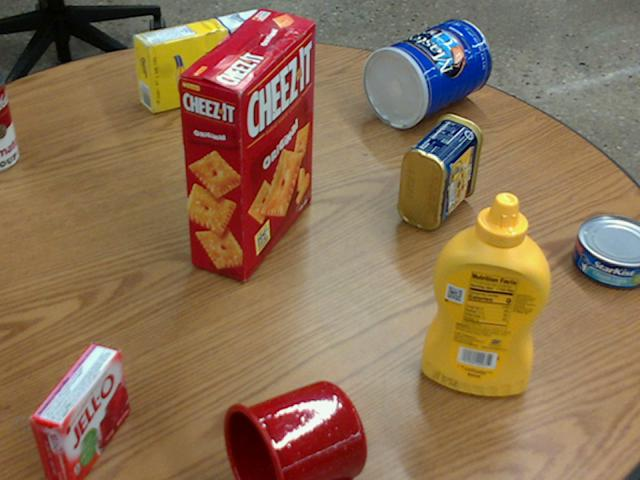cracker_box: (178, 9, 316, 280)
gelatin_box: (24, 343, 125, 479)
master_chef_can: (361, 18, 489, 127)
mug: (220, 381, 365, 479)
mustard_bottle: (420, 193, 549, 395)
potted_meat_can: (398, 113, 481, 229)
sugar_box: (132, 7, 270, 110)
tomato_soup_can: (0, 71, 16, 170)
tuna_fish_can: (570, 214, 639, 288)
